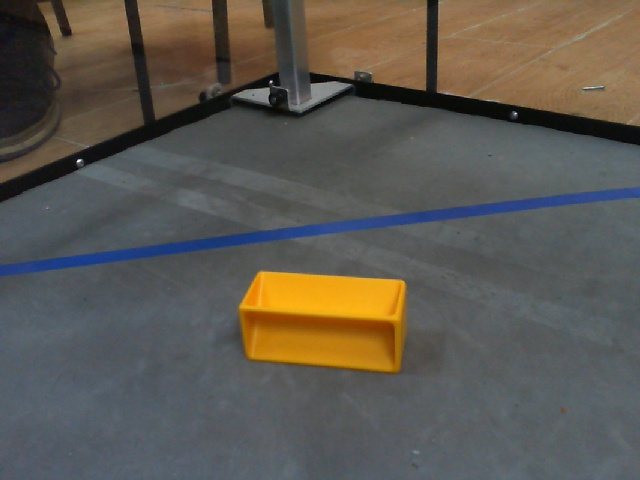YellowSample: (233, 265, 419, 381)
